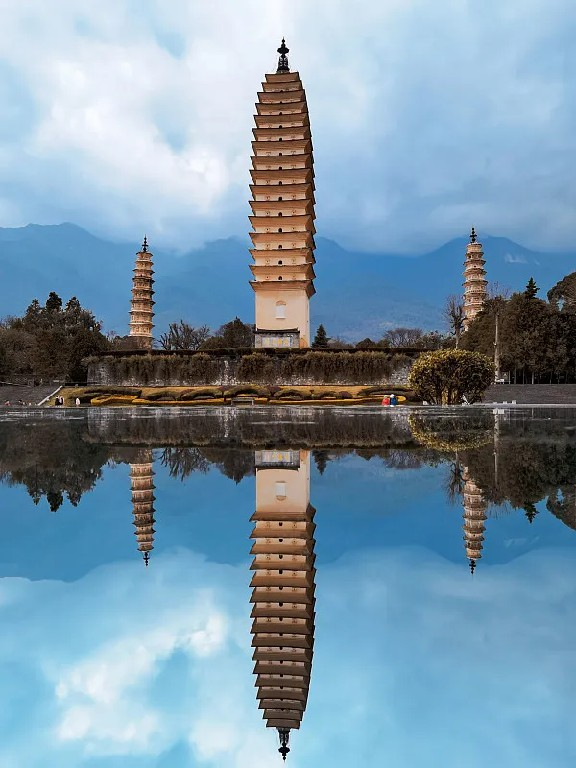ThreePagoda: (247, 37, 318, 348)
